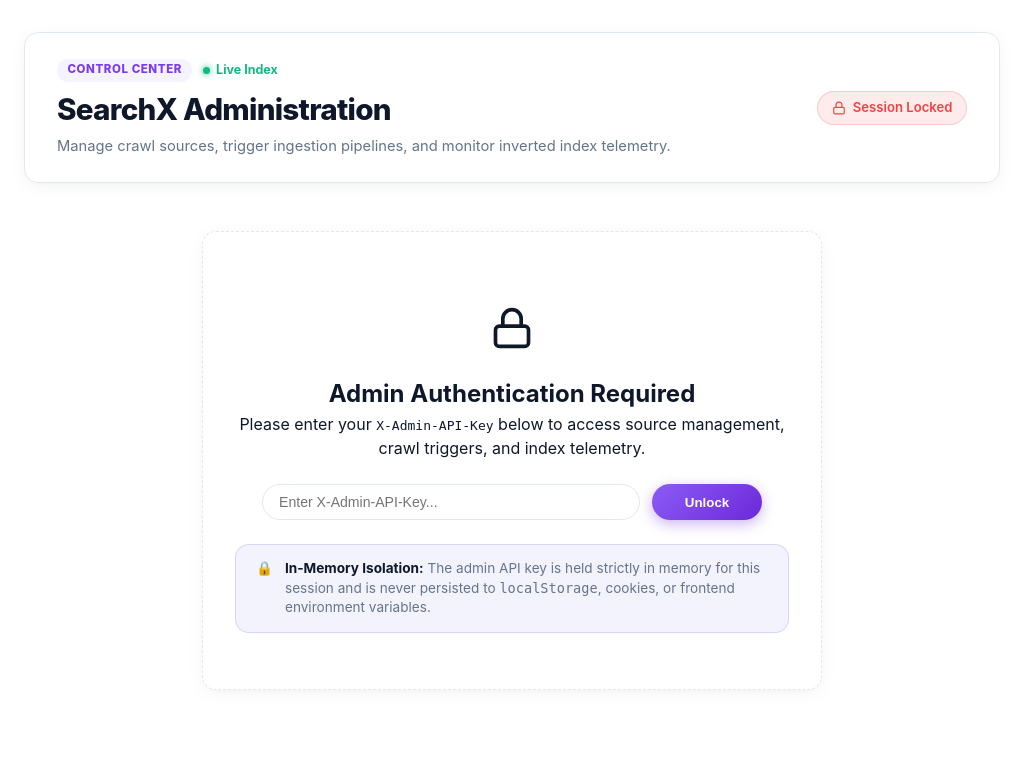
AdminDashboard Component › displays error banner and remains locked when invalid API key is provided
Type "wrong-key-secret" into the password field with placeholder "Enter X-Admin-API-Key..." at (451, 502), box [262, 484, 640, 520]
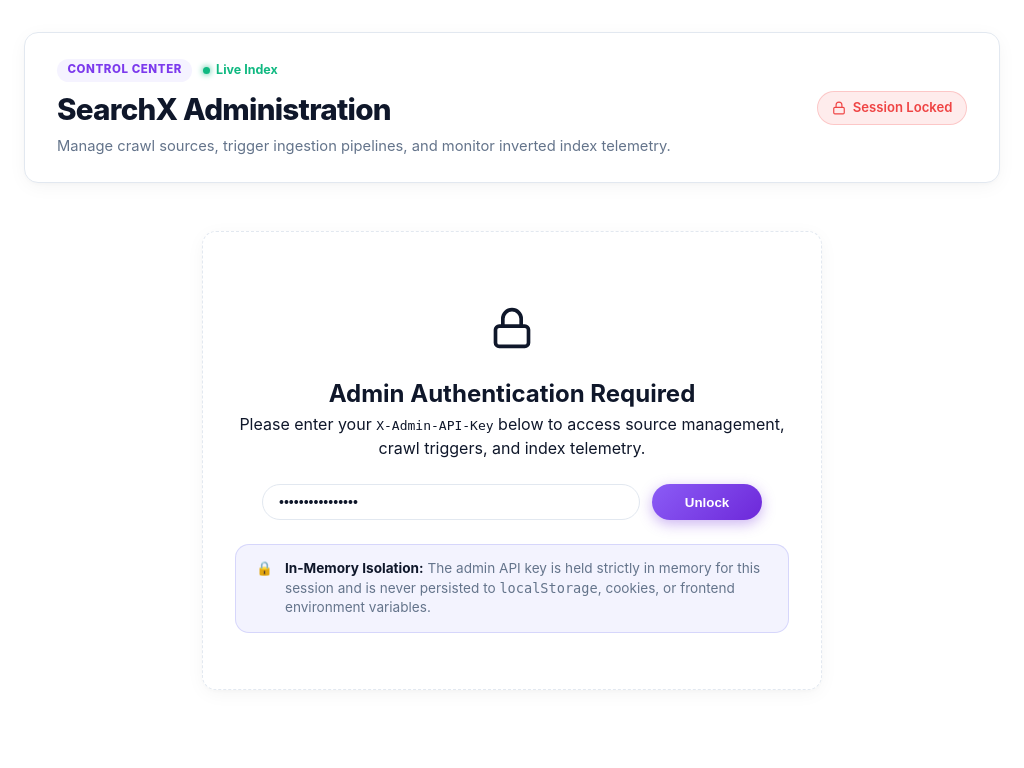
Click the button "Unlock" at (707, 502), box [652, 484, 762, 520]
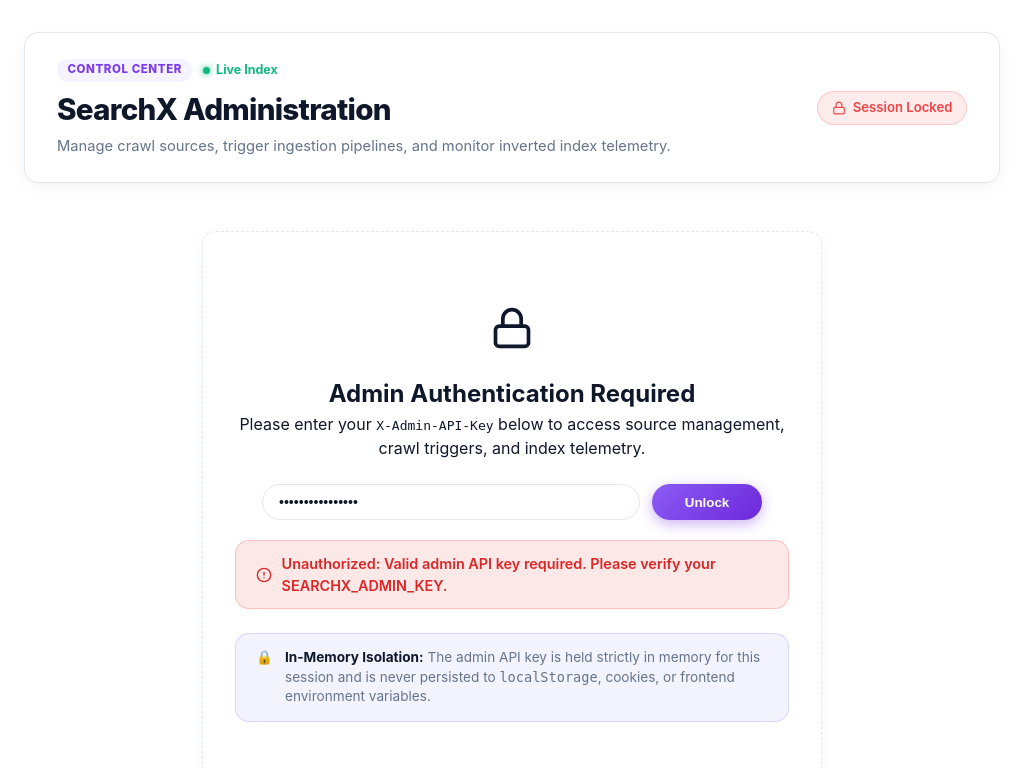
Check: the heading "Admin Authentication Required" is shown, box [329, 380, 695, 408]
Check: the text "Valid admin API key required" is shown, box [282, 555, 716, 594]
